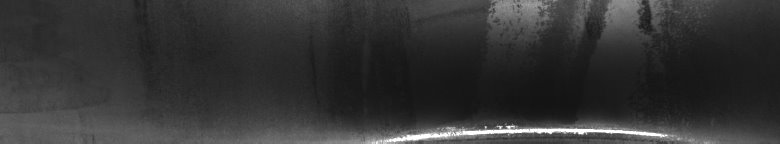ke: (268, 4, 762, 136)
